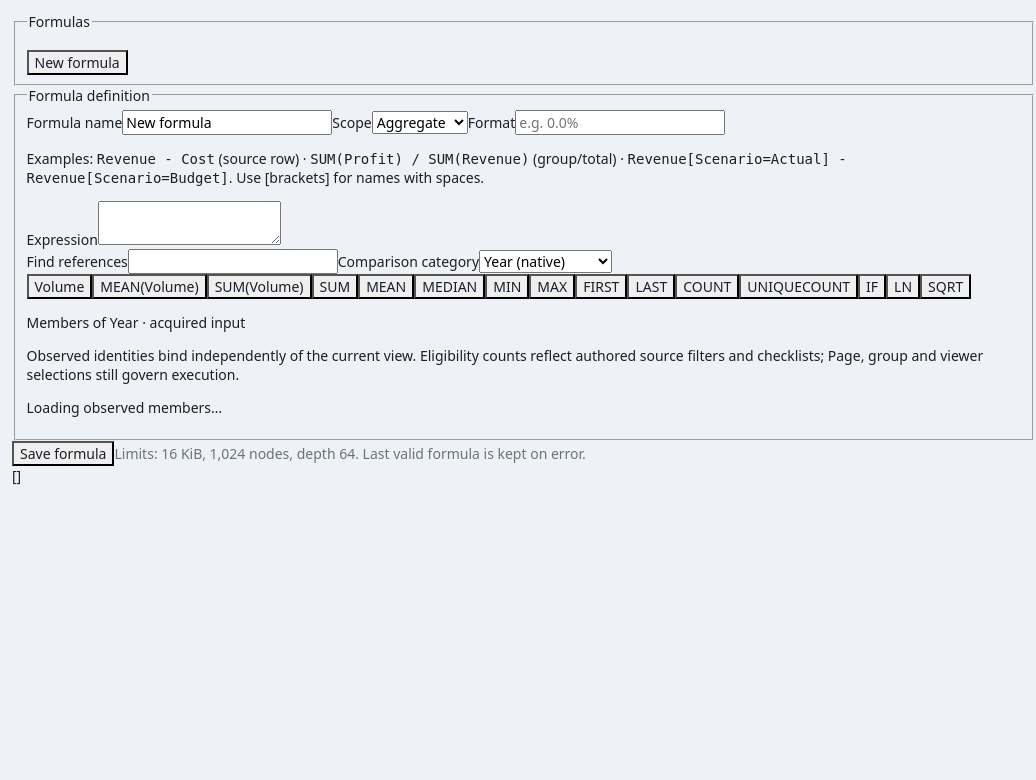
binds observed members independently of the displayed page and refuses an unobserved edited member
The image size is (1036, 780).
Earlier steps of the test are not shown.
Step 1. Type "[Volume — Average]" into the text box labelled "Expression" → {"x": 189, "y": 222}, box [98,200,281,244]
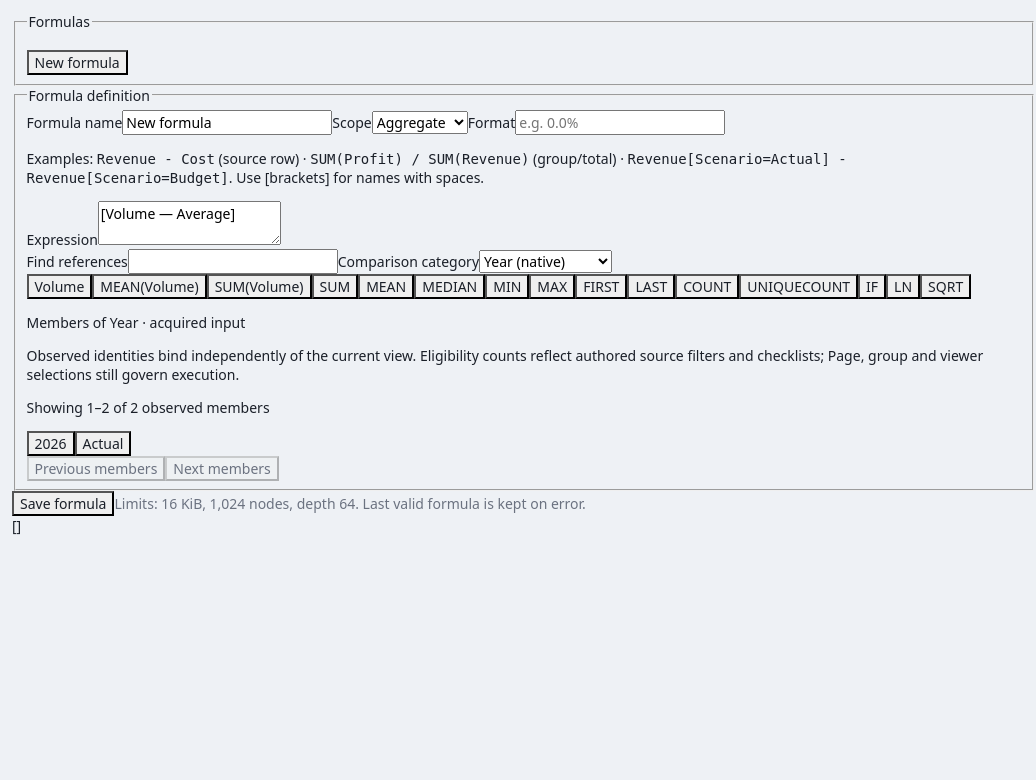
Step 2. Click the button named "Insert 2026" → {"x": 50, "y": 443}, box [26,430,74,456]
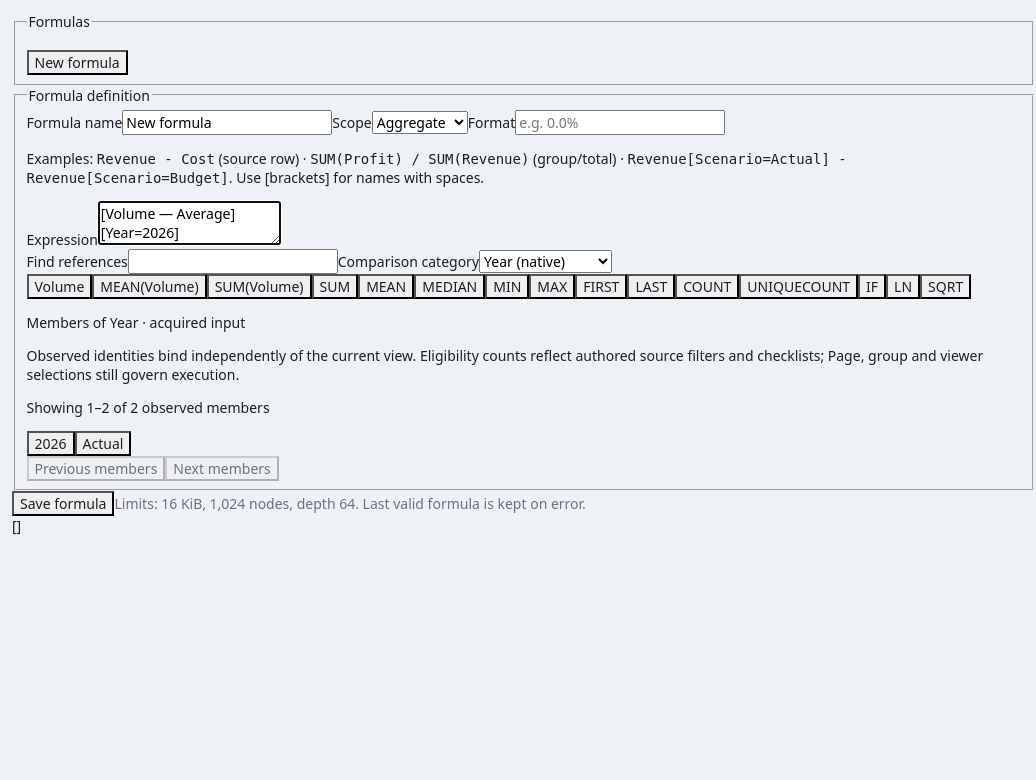
Step 3. Replace the text in the text box labelled "Expression" with "[Volume — Average]" → {"x": 189, "y": 222}, box [98,200,281,244]
Step 4. Select "Scenario (native)" in the dropdown labelled "Comparison category" → {"x": 546, "y": 261}, box [479,250,612,272]
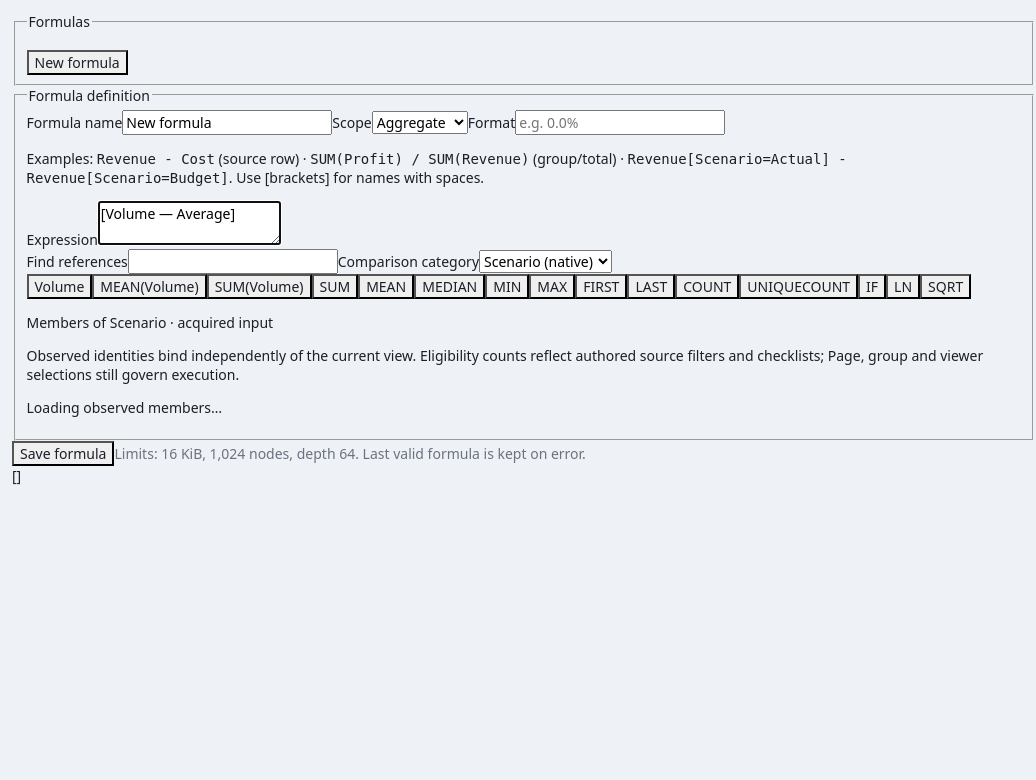
Step 5. Replace the text in the text box labelled "Expression" with "[Volume — Average][ [Year]=2026]" → {"x": 189, "y": 222}, box [98,200,281,244]
Step 6. Click the button "Save formula" → {"x": 63, "y": 454}, box [12,441,114,466]
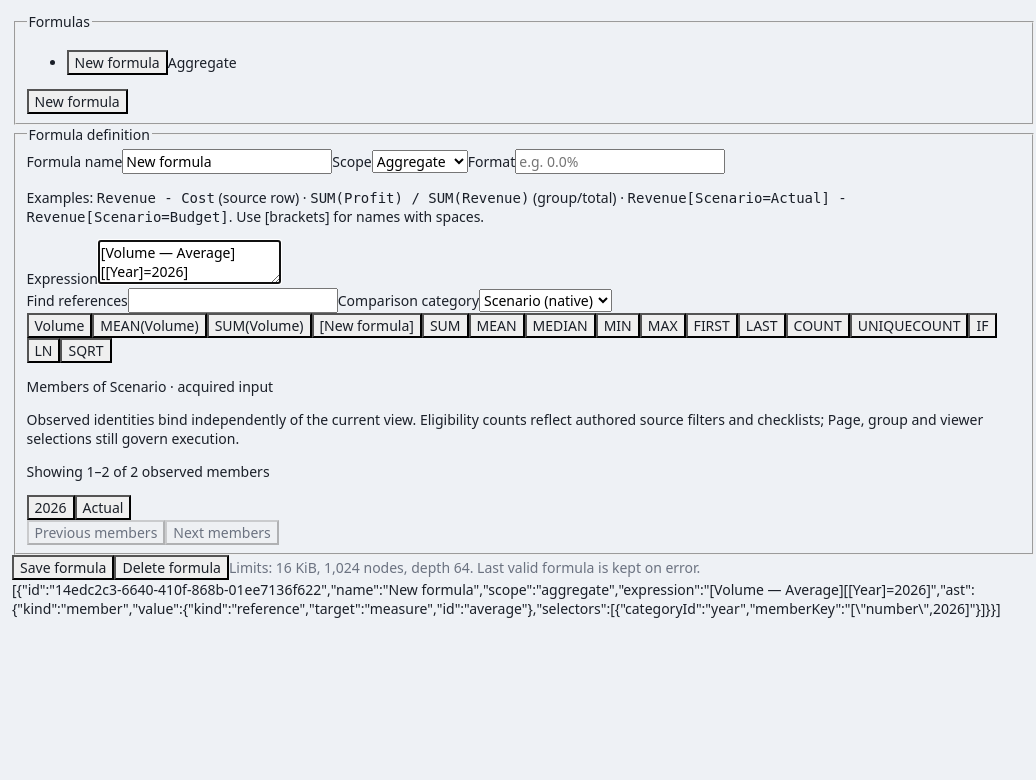
Expected: the text named "Saved model" shows "2026", [12,580,1001,618]
Step 7. Replace the text in the text box labelled "Expression" with "[Volume — Average][ [Year]=2027]" → {"x": 189, "y": 262}, box [98,240,281,284]
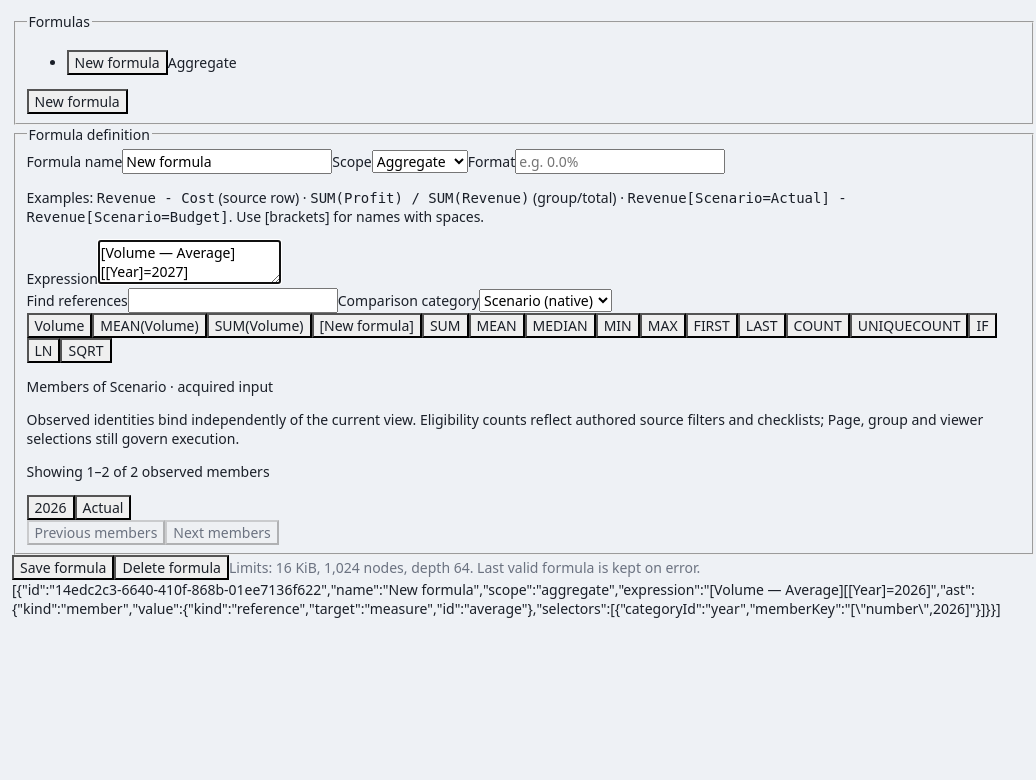
Step 8. Click the button "Save formula" → {"x": 63, "y": 568}, box [12,555,114,580]
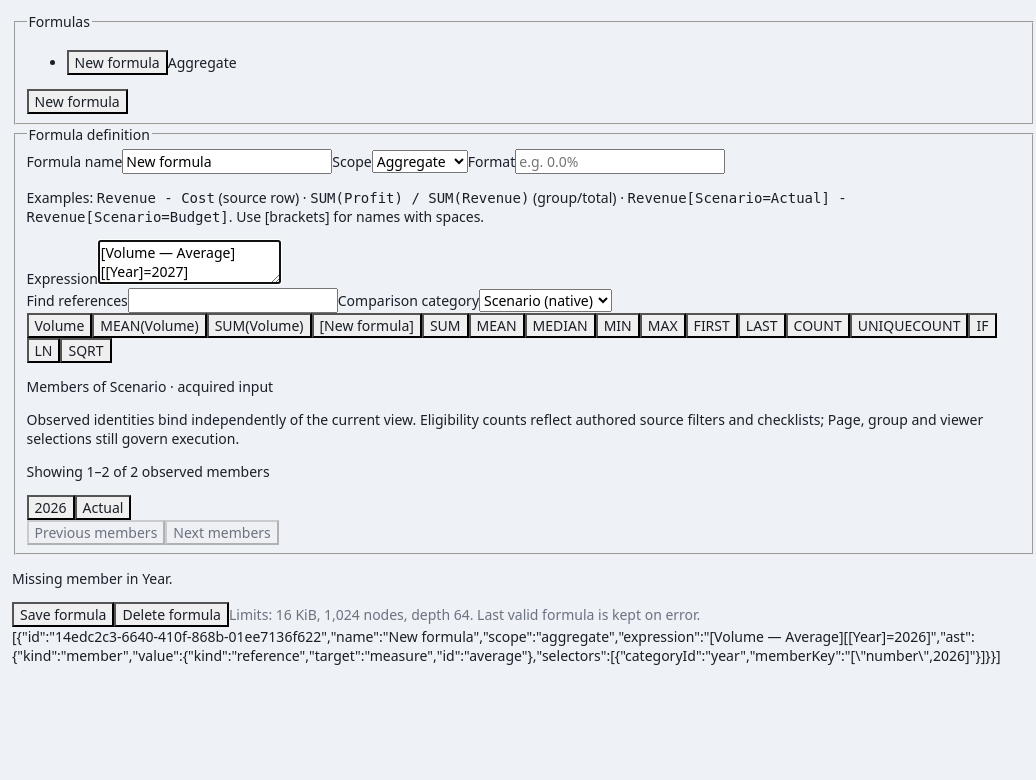
Expected: the text named "Saved model" does not show "2027", [12,627,1001,665]
Expected: the message "Missing member in Year." is shown, [12,569,172,588]
